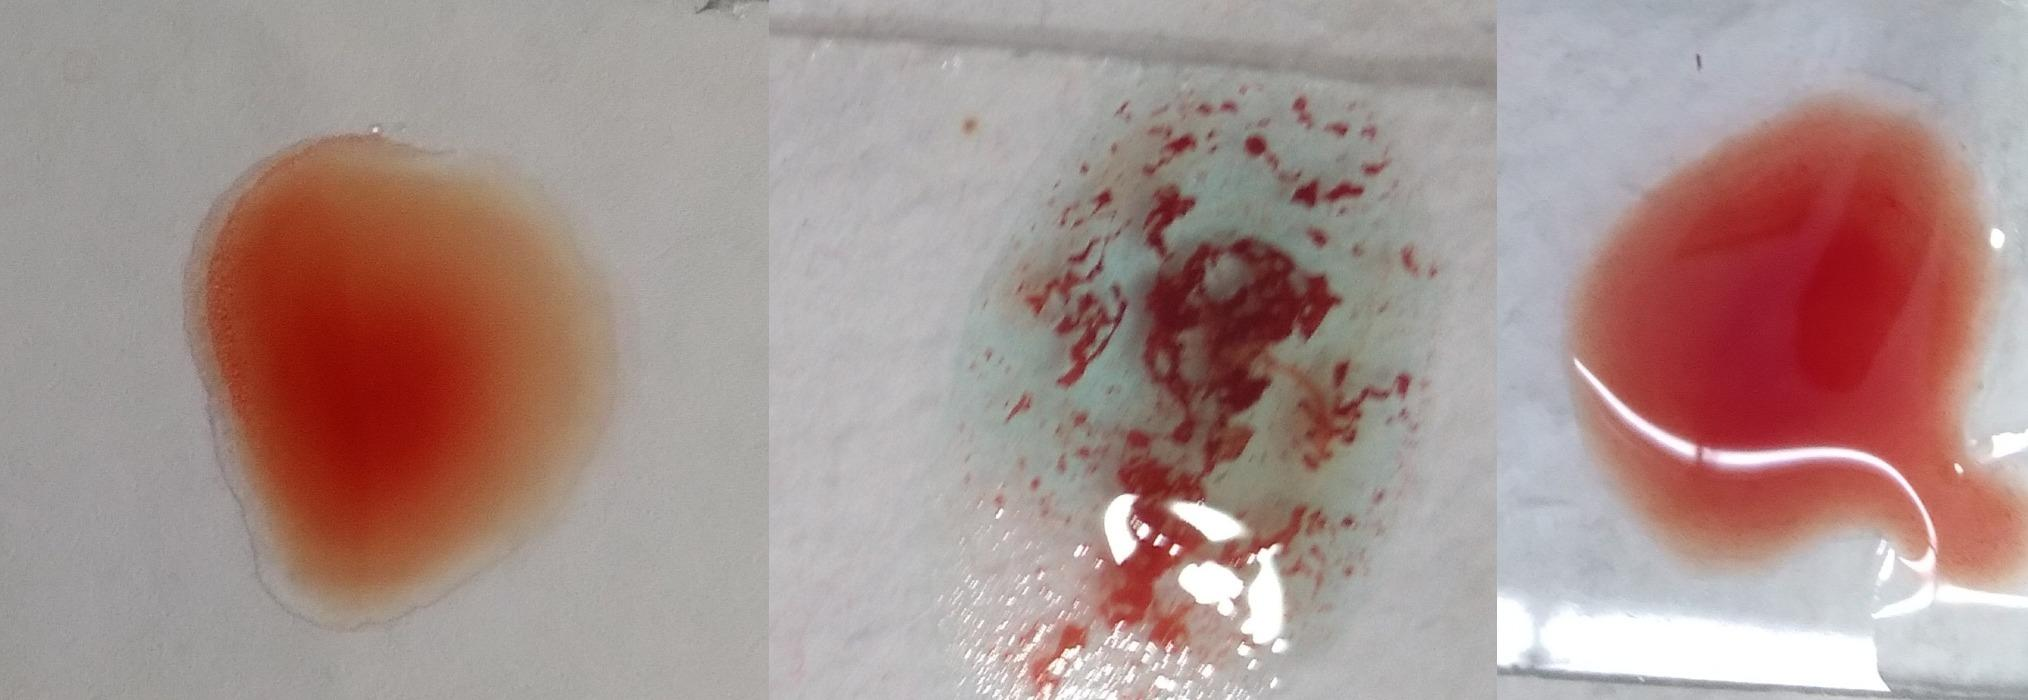A: (966, 65, 1401, 661)
